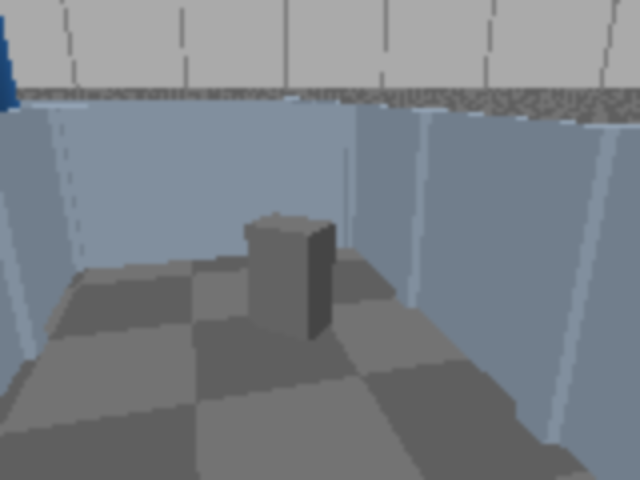obstacle: (245, 213, 334, 342)
person: (0, 0, 42, 274)
